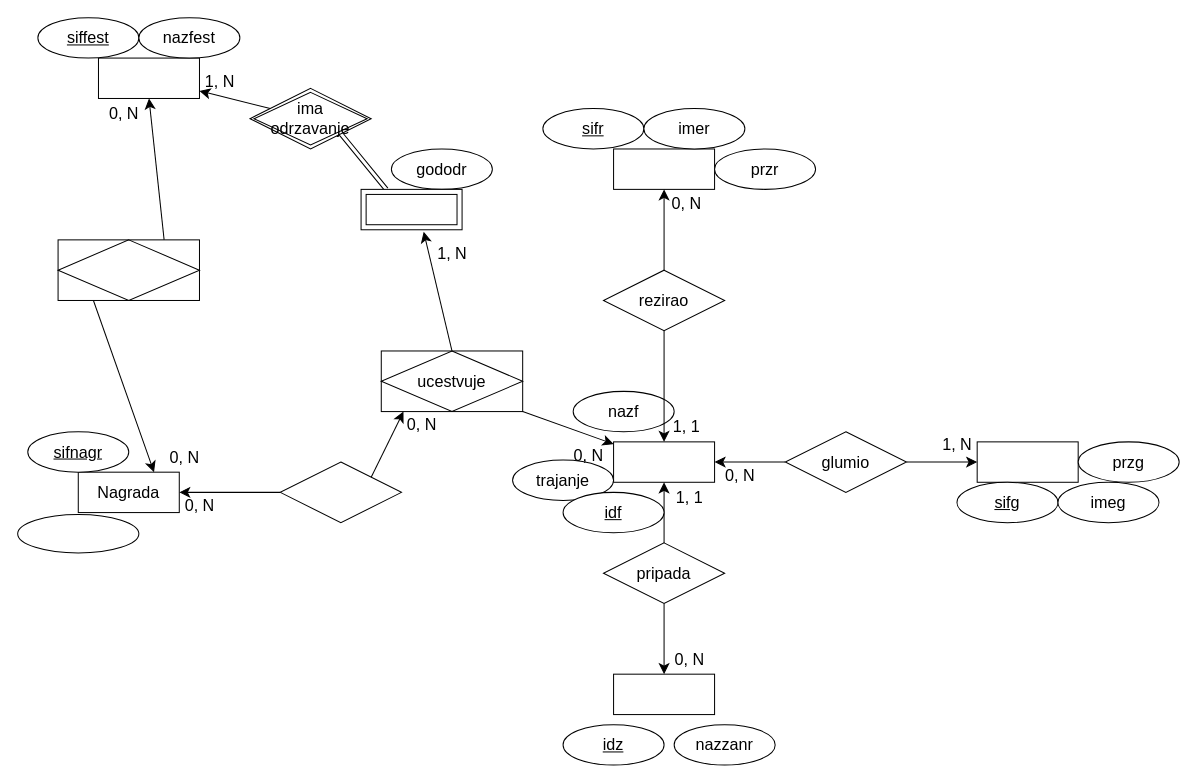
Some shapes in this 1197 by 783 pixel diagram are drawn without their labels. Each missing label, with the centre of its shape:
"dodeljuje" belongs at point 128,269.
"Festival" belongs at point 148,77.
"Film" belongs at point 664,461.
"Glumac" belongs at point 1027,461.
"naznag" belongs at point 78,533.
"odrzavanje" belongs at point 411,209.
"osvaja" belongs at point 340,492.
"Reziser" belongs at point 664,168.
"Zanr" belongs at point 664,694.
